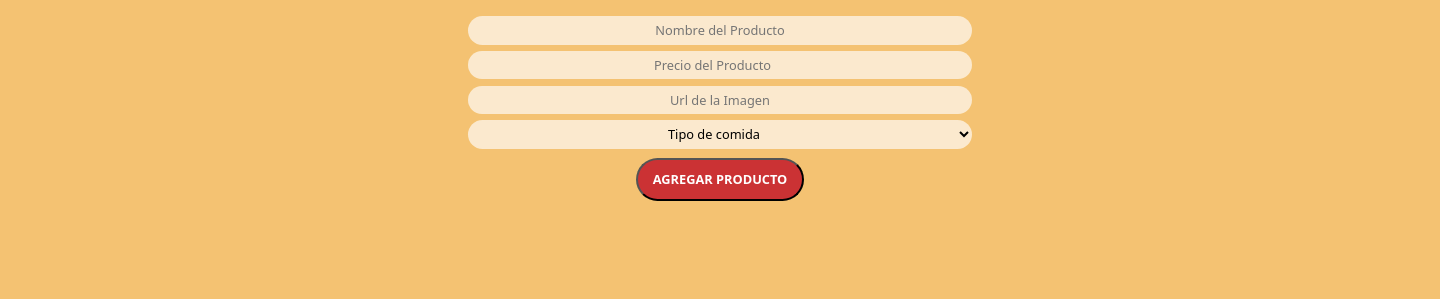
AdminFormProducts test › deberia agregar un producto
Type "Sandwich de jamón y queso" into the field with test id "name-product" at (720, 30), box 468,16 -> 972,44
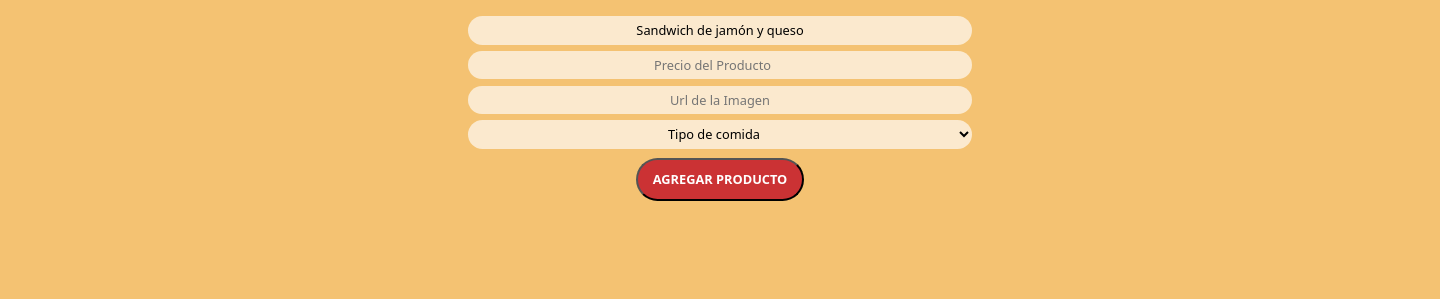
Type "15000" into the number field with test id "price-product" at (720, 65), box 468,51 -> 972,79
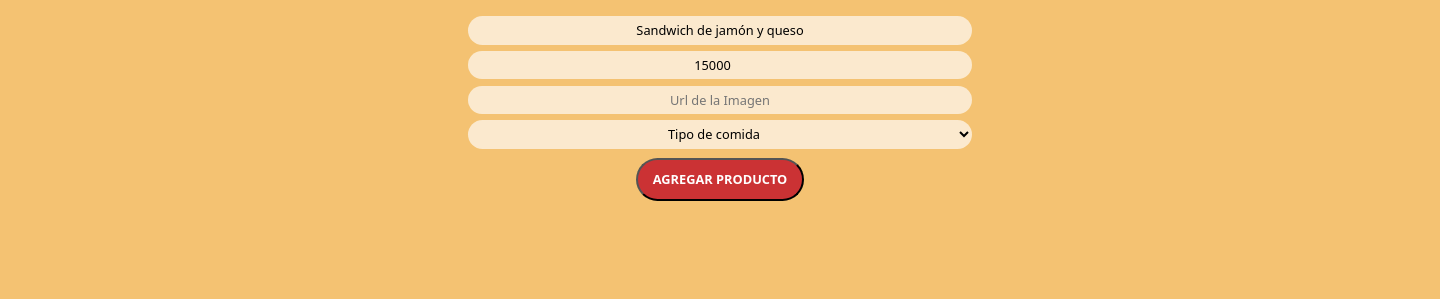
Type "http://localhost:3000/image-data/Sandwich.png" into the field with test id "image-product" at (720, 100), box 468,86 -> 972,114
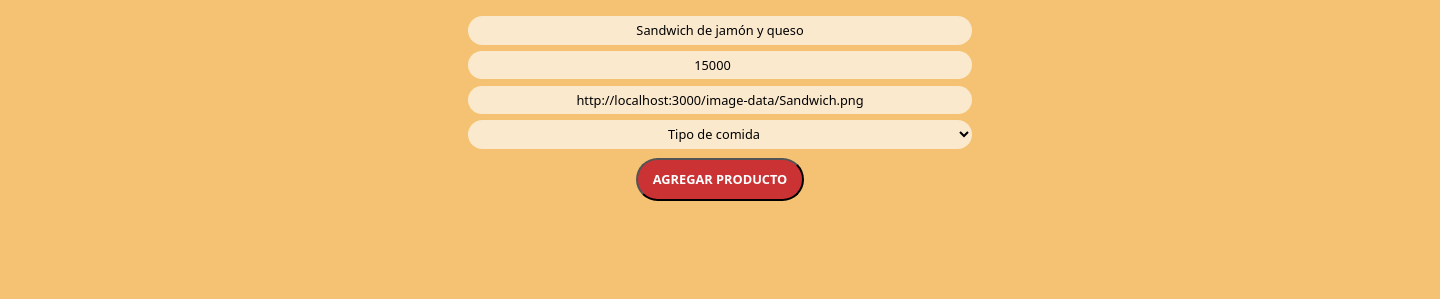
Select "Desayuno" in the dropdown with test id "type-product" at (720, 134), box 468,120 -> 972,149
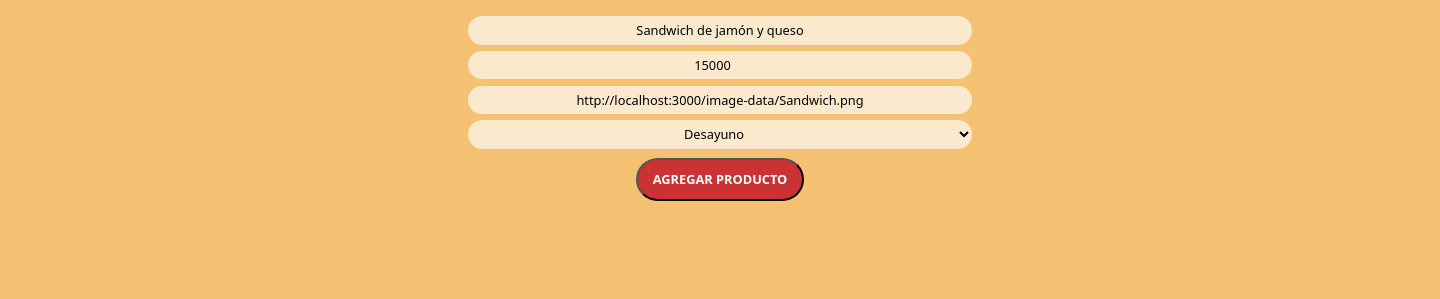
Click the button "AGREGAR PRODUCTO" at (720, 180), box 636,158 -> 804,201
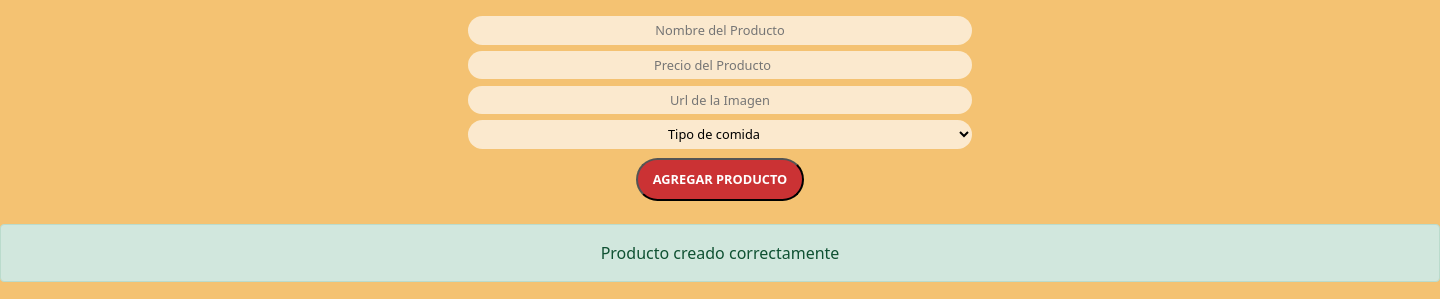
Check: the message with test id "created-product" reads "Producto creado correctamente", box 601,242 -> 839,264
